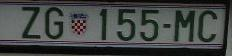-: (161, 22, 174, 28)
1: (99, 7, 108, 42)
5: (117, 6, 136, 40), (140, 8, 158, 43)
C: (197, 10, 219, 44)
G: (44, 7, 67, 39)
M: (174, 7, 194, 43)
Z: (19, 6, 43, 40)
